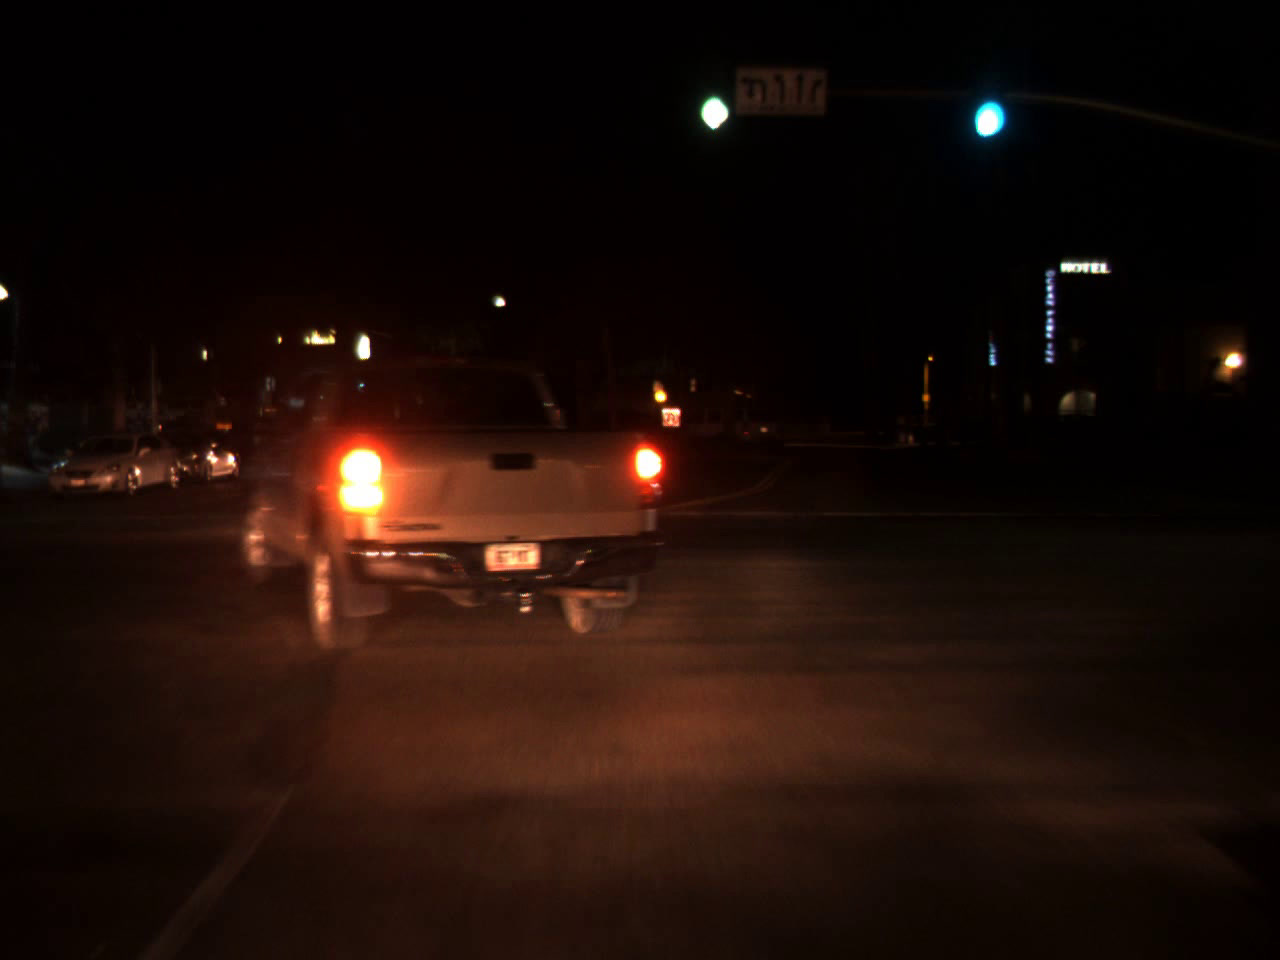go: (690, 58, 735, 142), (961, 68, 1002, 146)
